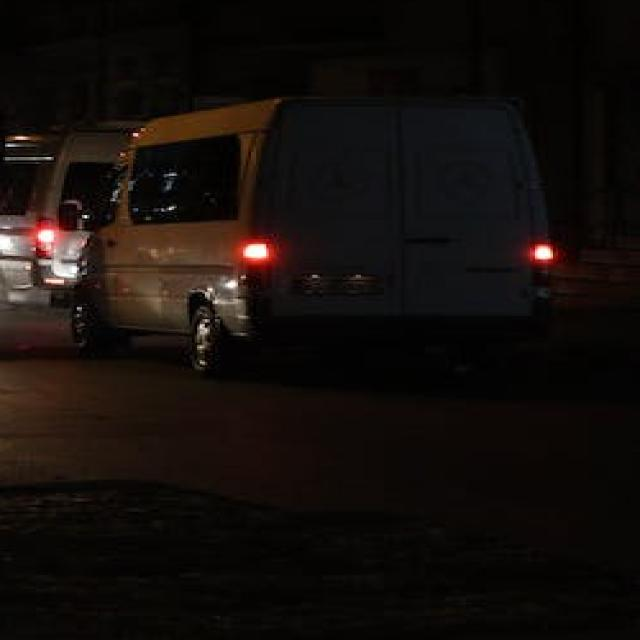car: (62, 95, 555, 374), (0, 120, 133, 306)
